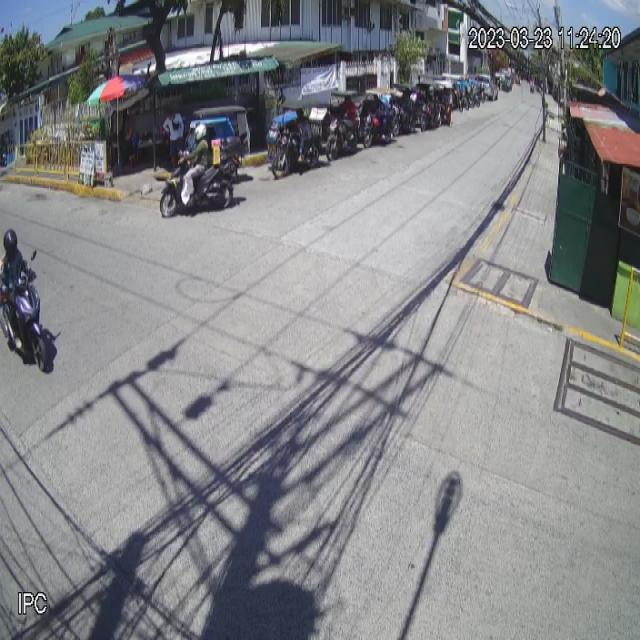Motorcycle: (0, 252, 51, 373), (158, 146, 236, 216)
